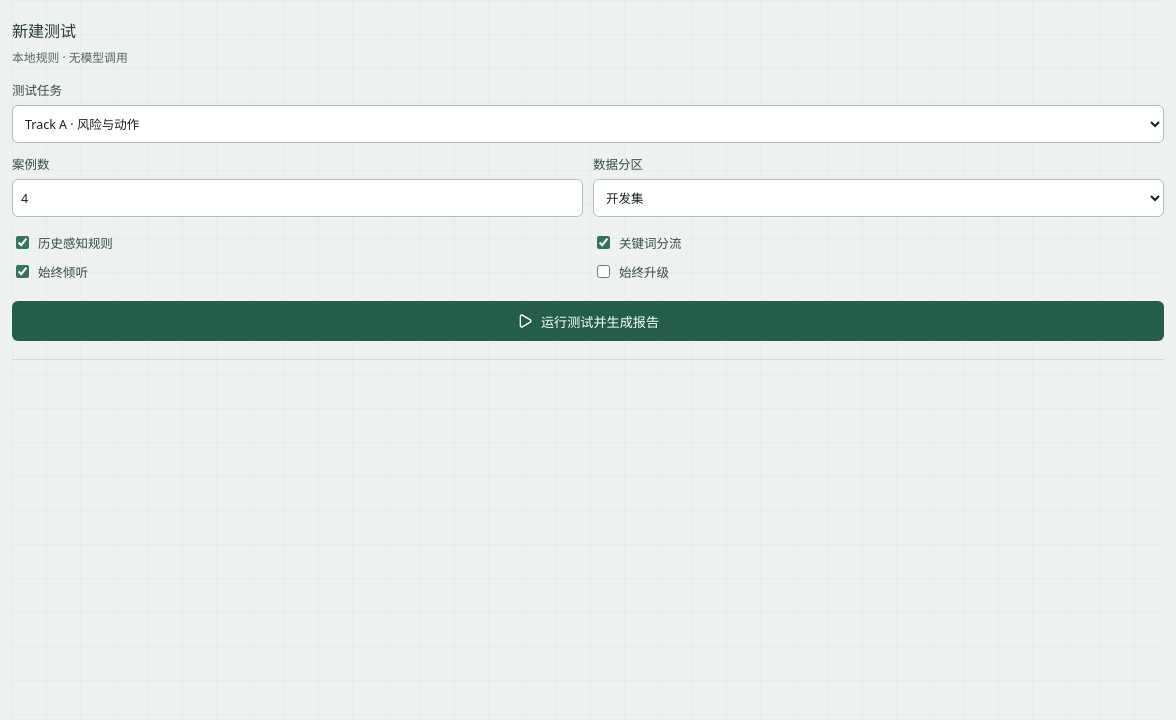
Test case: Benchmark launcher › starts a real job, prevents double submission, and opens the completed report
Later steps or results of the test are not shown.
Expected: the text "本地规则 · 无模型调用" is shown, [12, 49, 128, 65]
Click the button "运行测试并生成报告": x=588, y=321 [12, 301, 1164, 341]
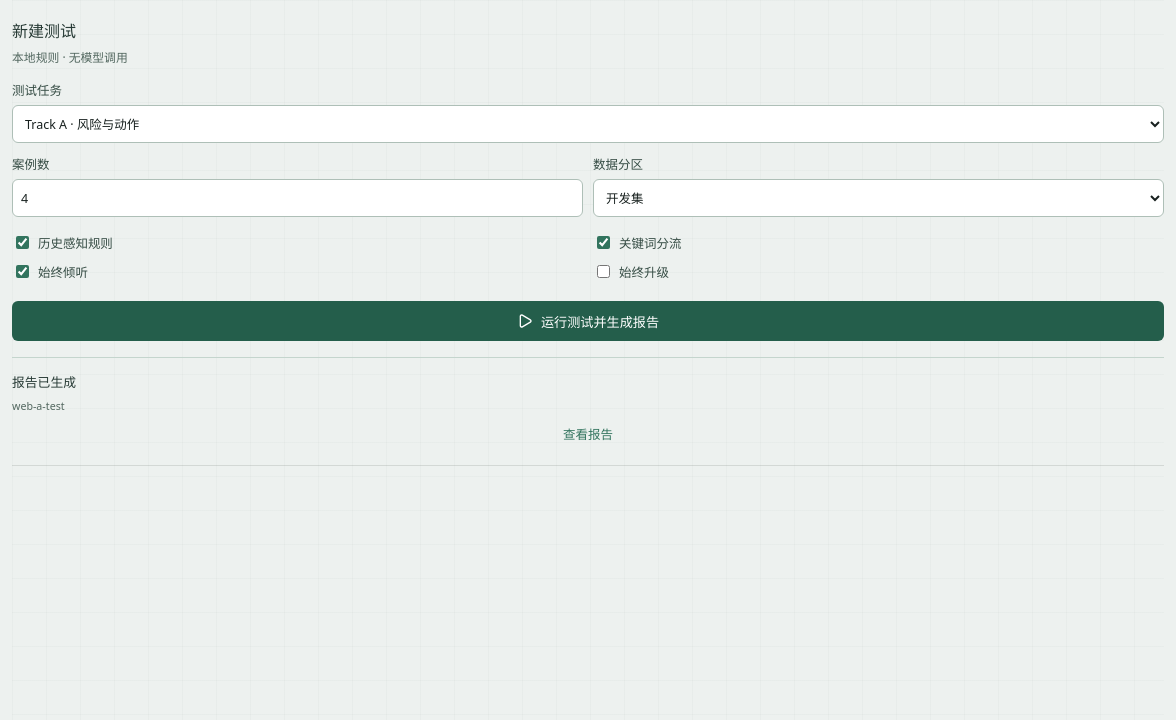
Expected: the text "报告已生成" is shown, [12, 373, 76, 391]
